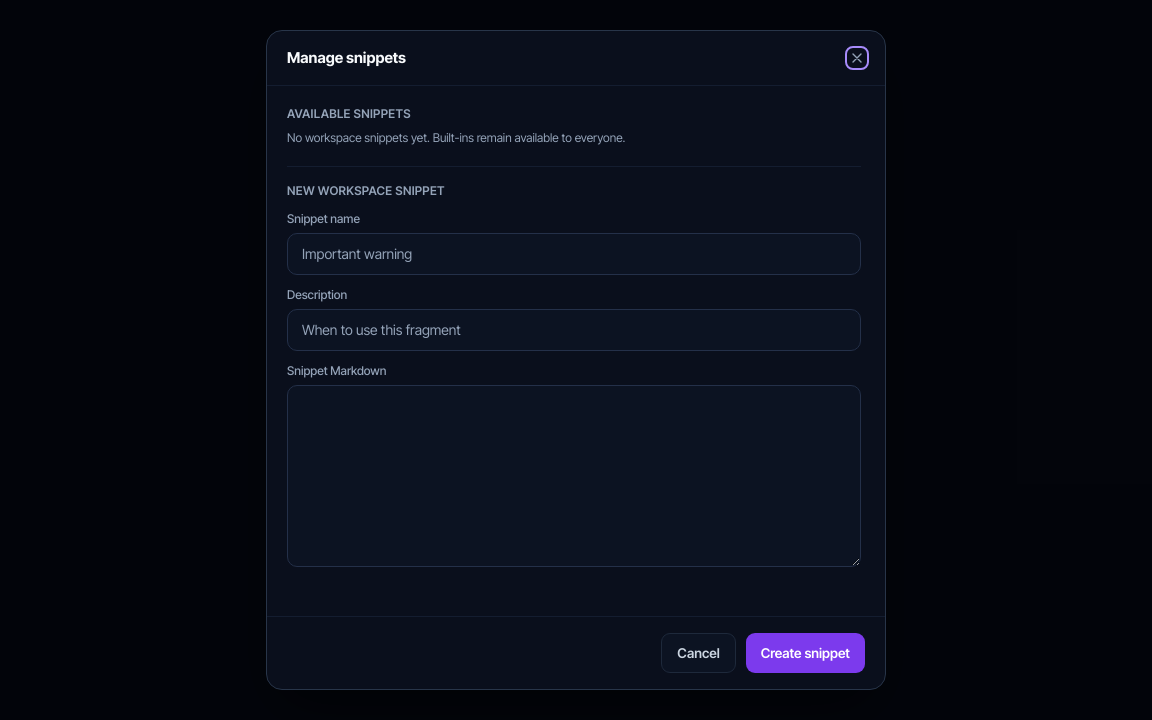
Test case: DocumentSnippetManager › keeps values and announces a safe API error
In the field labelled "Snippet name": [574, 254] box [287,233,861,275], type "Warning"
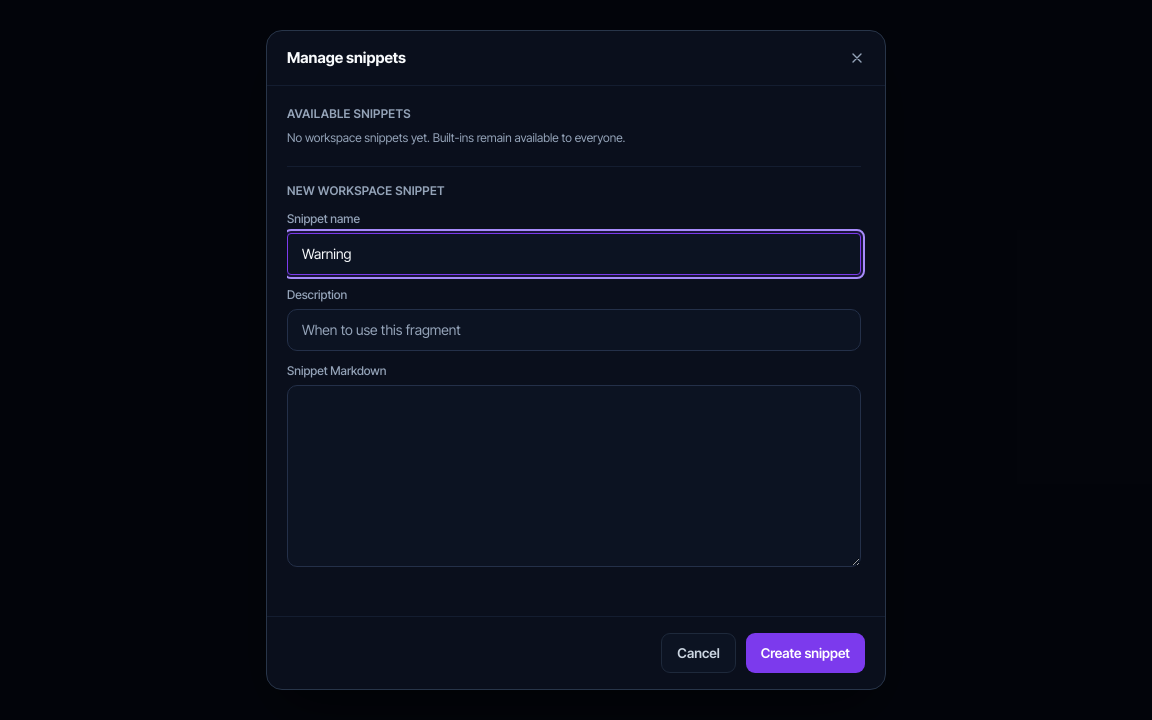
In the text box labelled "Snippet Markdown": [574, 476] box [287,385,861,567], type "> Warning"
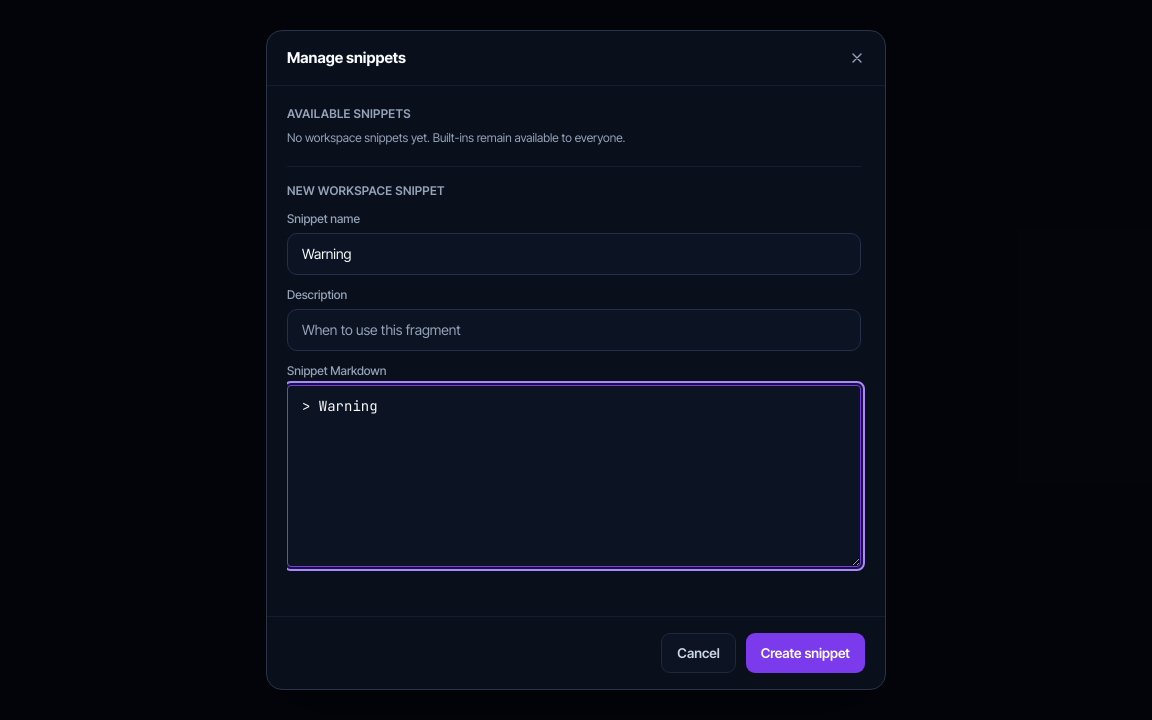
Click the button "Create snippet": [805, 653] box [746,633,865,673]
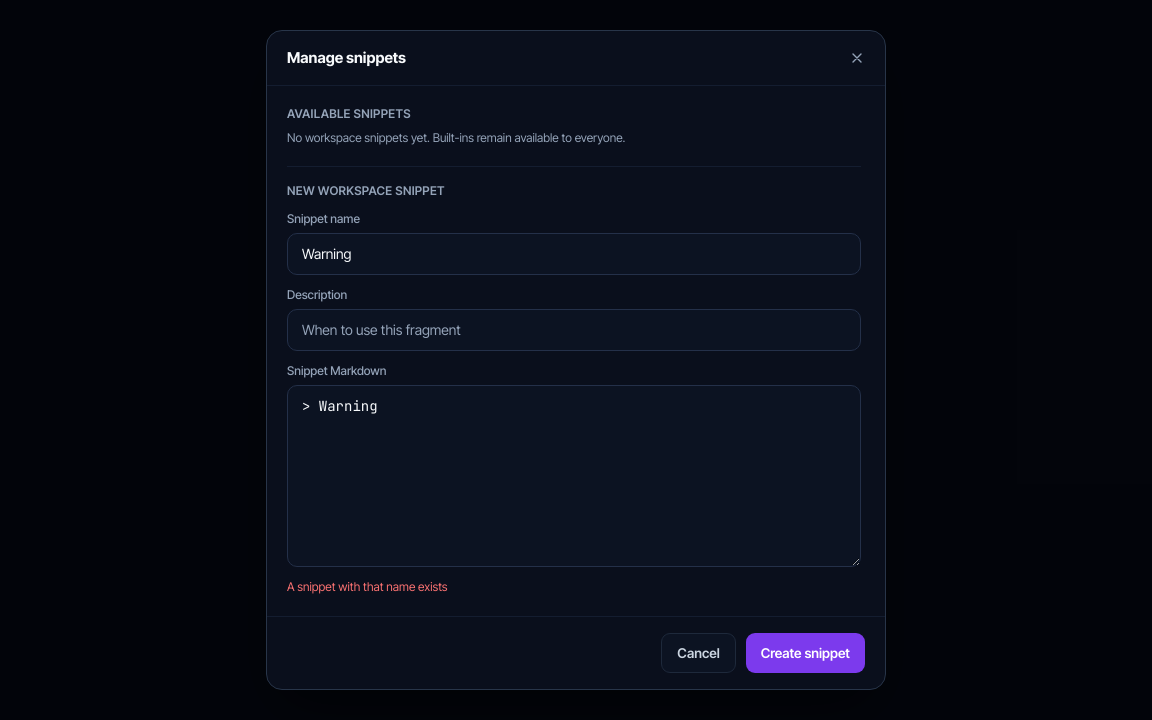
Expected: the text "A snippet with that name exists" is shown, [287,579,448,594]
